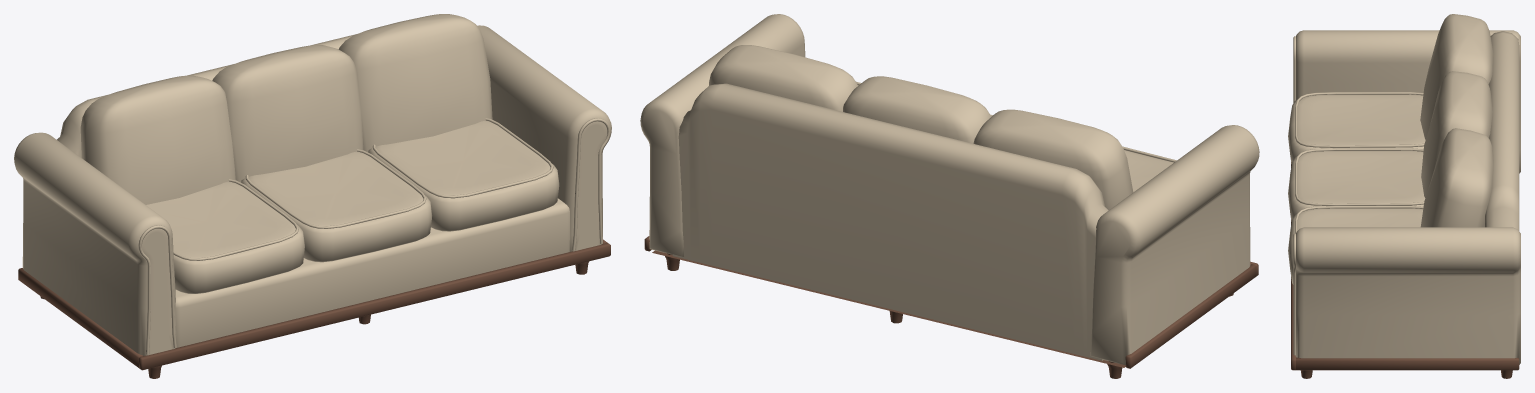
The model's file is Kit_Sofa3.fbx.
3 views of the same model, side by side, from view 1: azimuth 30°, elevation 25°; view 2: azimuth 150°, elevation 25°; view 3: azimuth 270°, elevation 25° (orthographic). The views are drawn at different scales.
Visible parts, largest first — view 1: Kit_Sofa3_LOD0; view 2: Kit_Sofa3_LOD0; view 3: Kit_Sofa3_LOD0.
Boxes of the visible parts, <box> form: Kit_Sofa3_LOD0: <box>14,14,611,378</box>; Kit_Sofa3_LOD0: <box>640,14,1259,378</box>; Kit_Sofa3_LOD0: <box>1288,14,1520,378</box>.
Size of what is drawn, in the model's own units: 2 by 0.8221 by 0.908.
